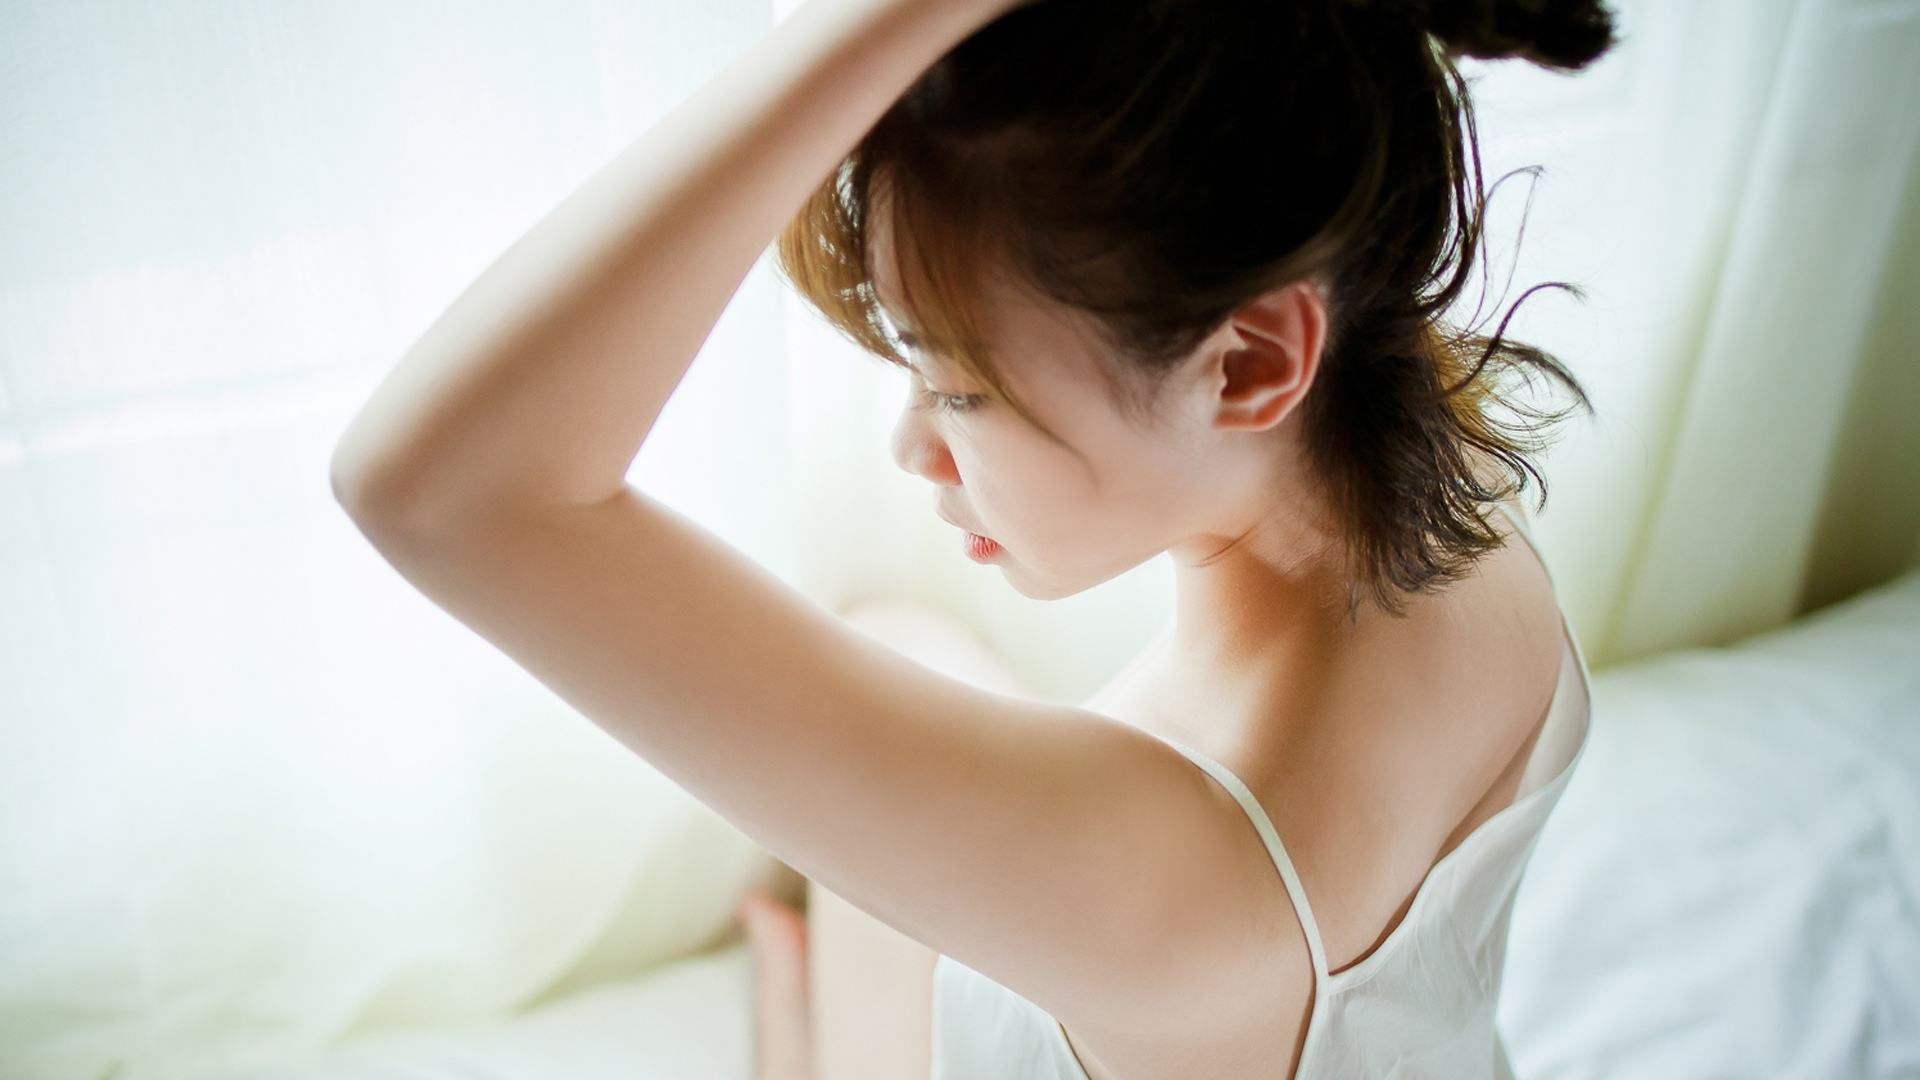person: (512, 78, 1540, 1023)
